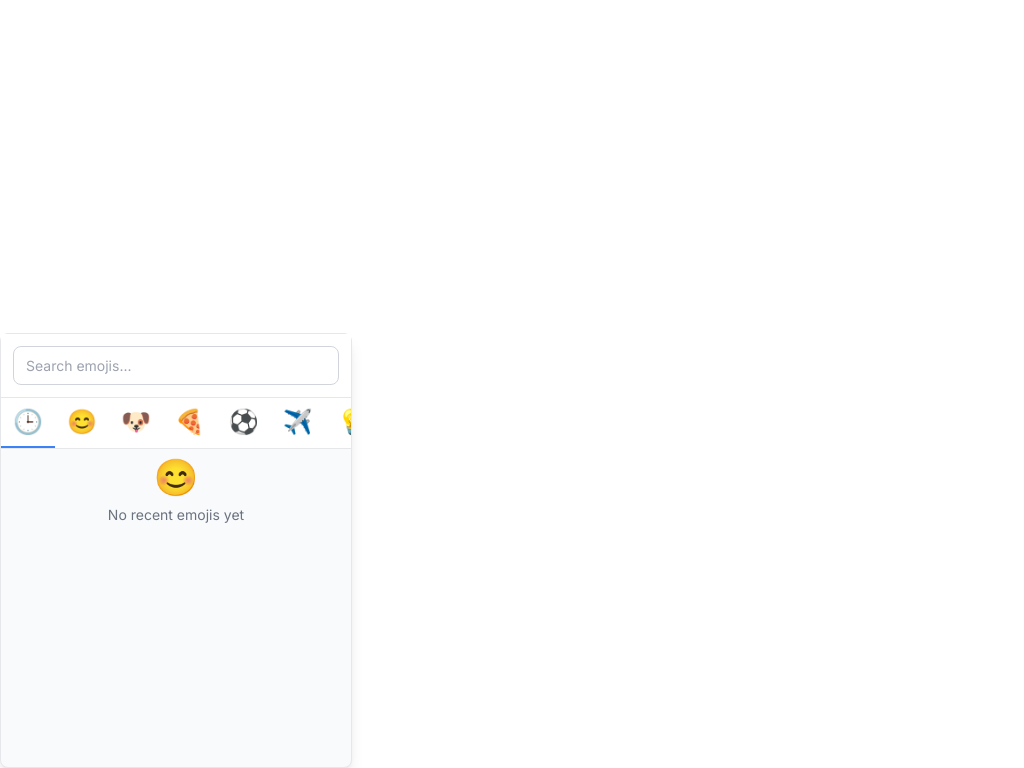
it: EmojiPicker › Category Switching › should switch categories when clicking category tab
(page scrolled)
Click the tab named "Animals".
click(136, 423)  # box [109,398,163,448]
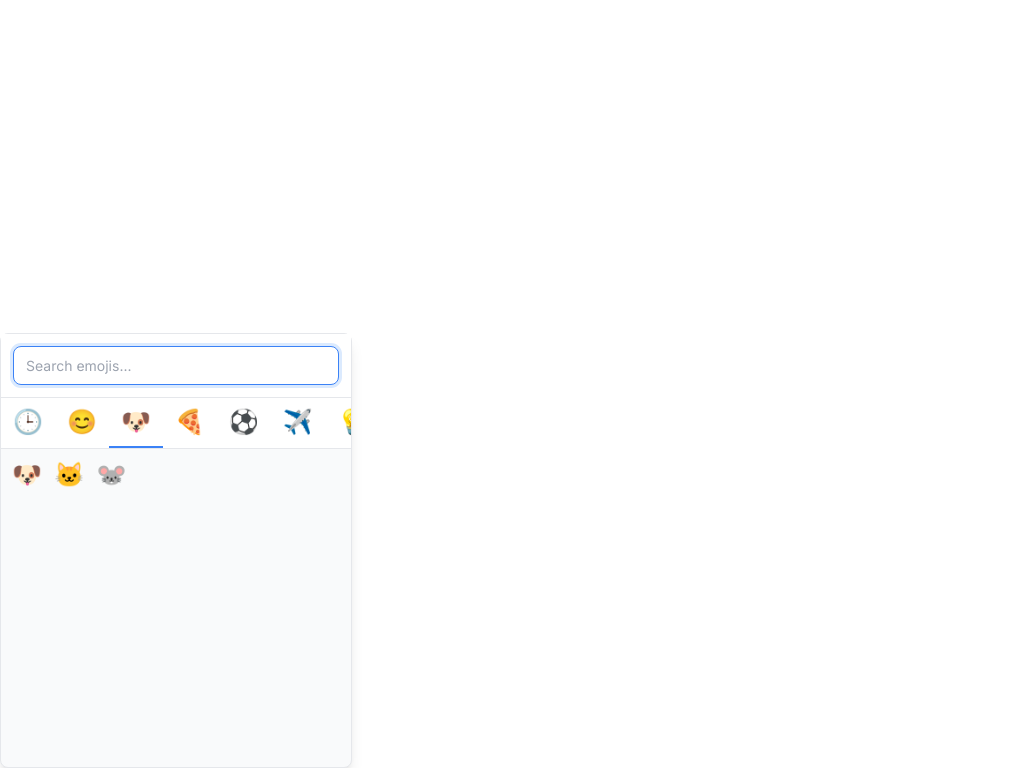
Result: the option named "Dog Face" is shown at [9,457,45,493]
